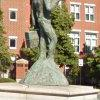Statue: (20, 2, 64, 81)
